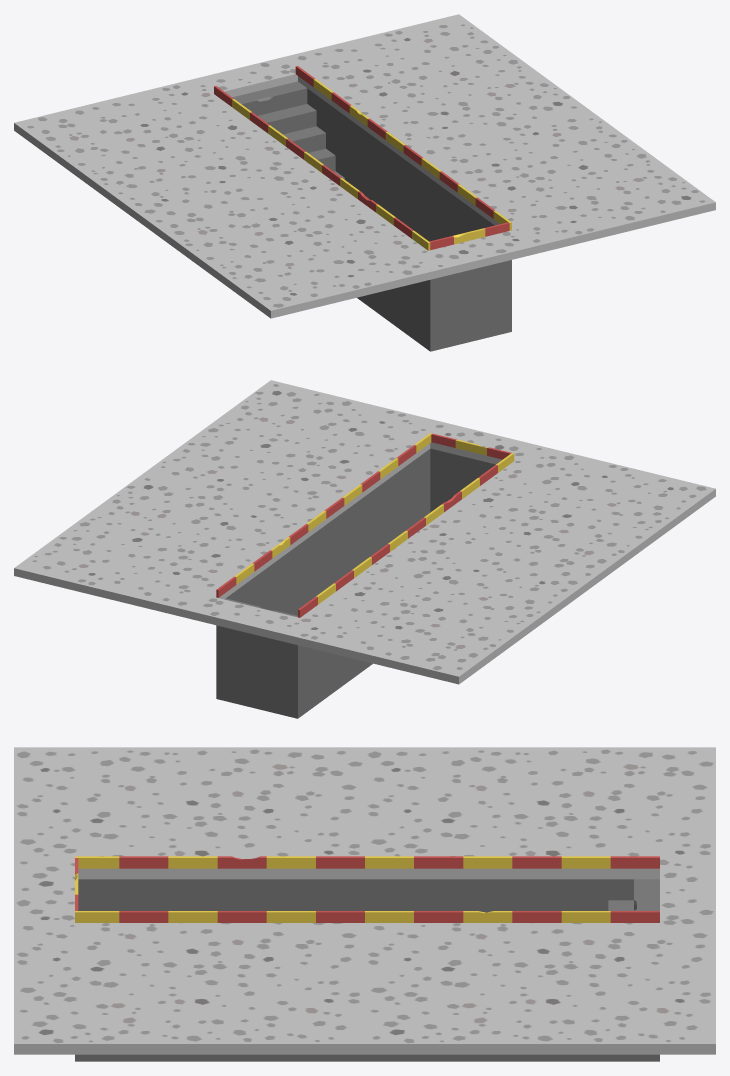
Rendered from Wh_Repair_Pit.fbx.
3 views of the same model, one above another, from view 1: azimuth 30°, elevation 25°; view 2: azimuth 150°, elevation 25°; view 3: azimuth 270°, elevation 25° (orthographic). The views are drawn at different scales.
Parts seen in each view (by area): view 1: Cube.476; view 2: Cube.476; view 3: Cube.476.
Part boxes in pixels (x1=…): Cube.476: x1=14, y1=14, x2=715, y2=351; Cube.476: x1=14, y1=380, x2=715, y2=718; Cube.476: x1=14, y1=747, x2=715, y2=1061.
Size of the model in its own units: 600 by 141 by 600.
